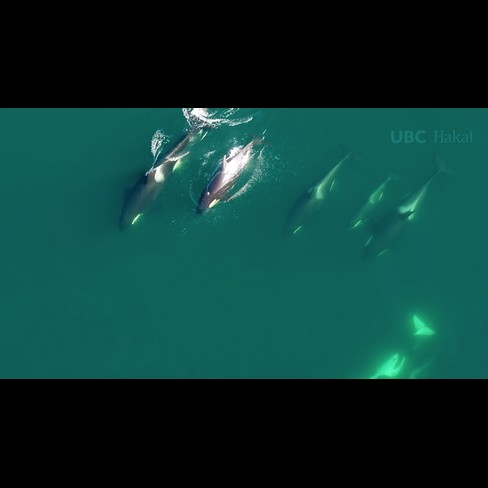orca: (107, 108, 228, 237), (351, 138, 456, 267), (277, 137, 363, 245), (190, 127, 276, 220), (370, 309, 438, 379), (341, 163, 403, 238)
